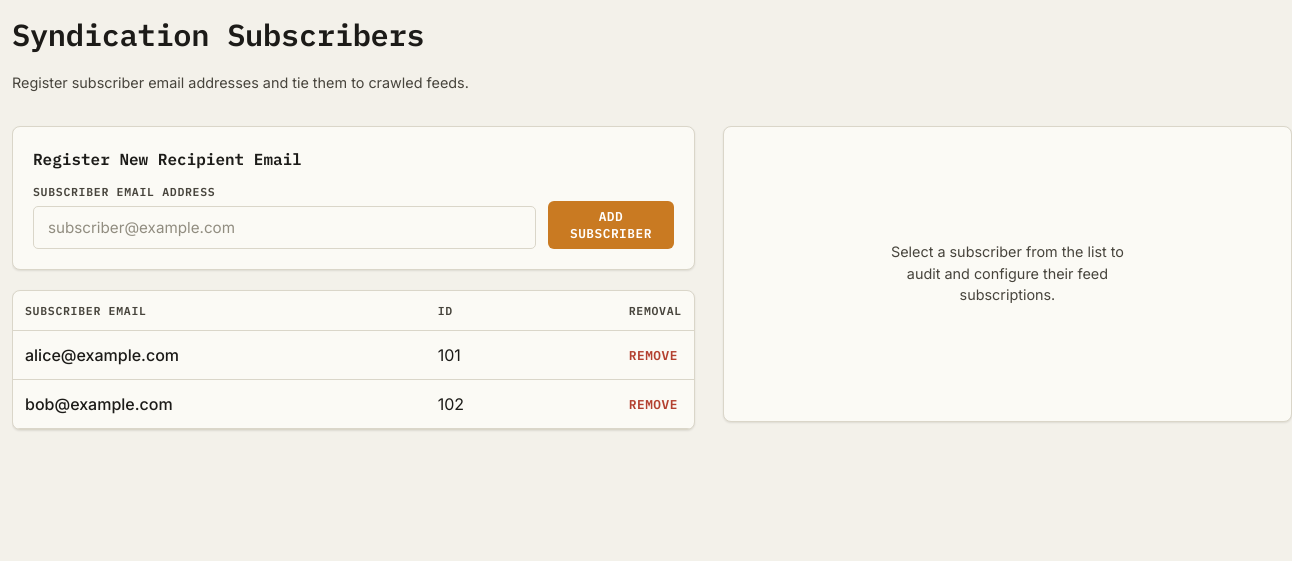
Test case: SubscriberManager › opens details pane on subscriber row click
The width and height of the screenshot is (1292, 561).
Click the text "alice@example.com" at [219, 355], box [13,331,426,380]
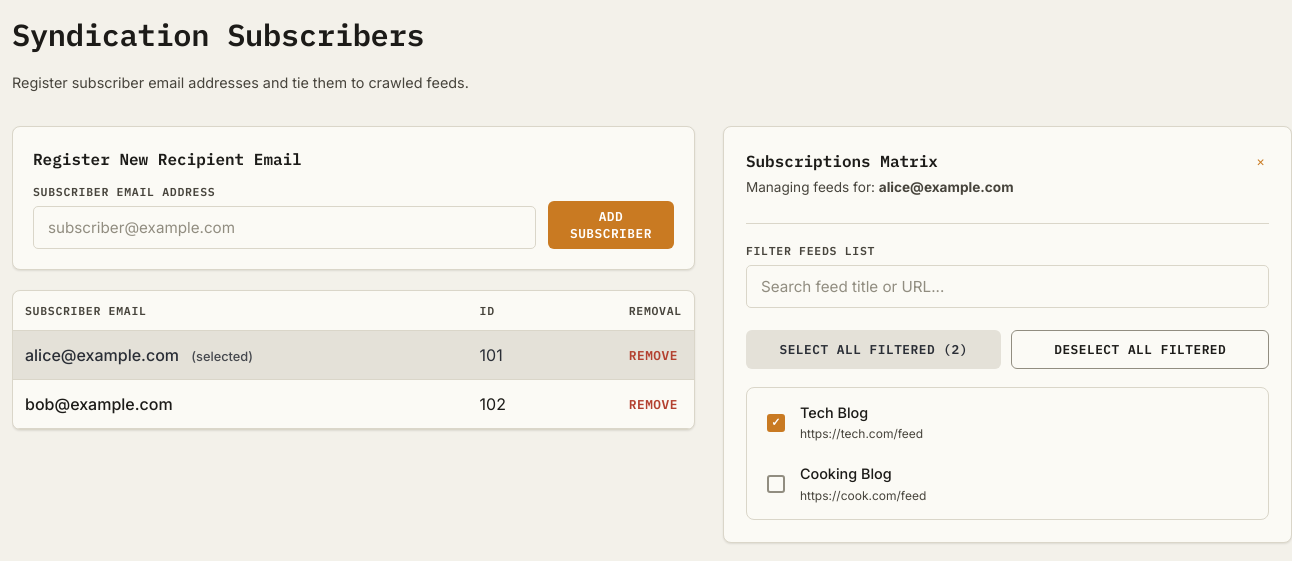
Result: the heading "Subscriptions Matrix" is shown at [746,151,938,171]
Result: the text "Managing feeds for:" is shown at [746,179,879,195]
Result: the text "Tech Blog" is shown at [800,404,868,421]
